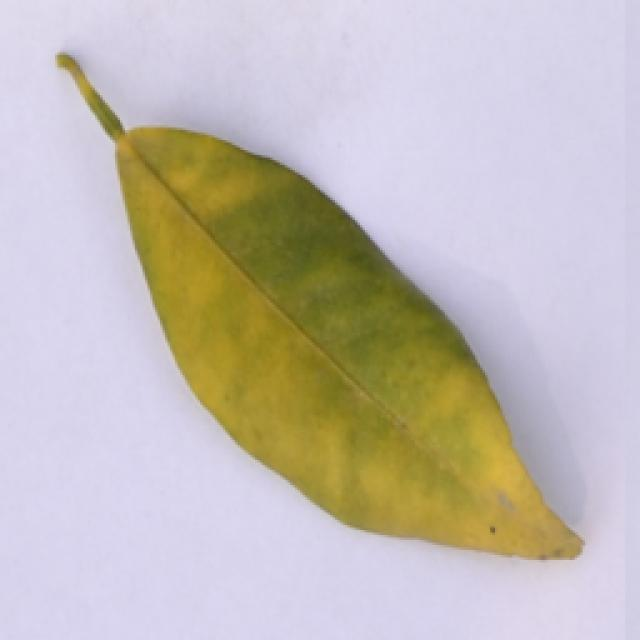greening: (44, 45, 588, 579)
